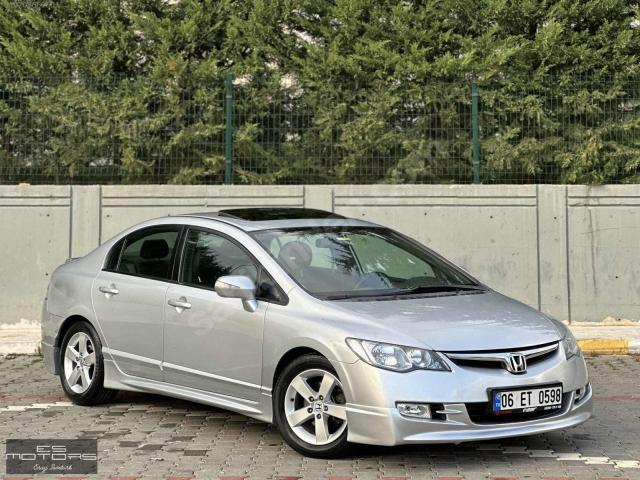plaka: (490, 384, 562, 414)
